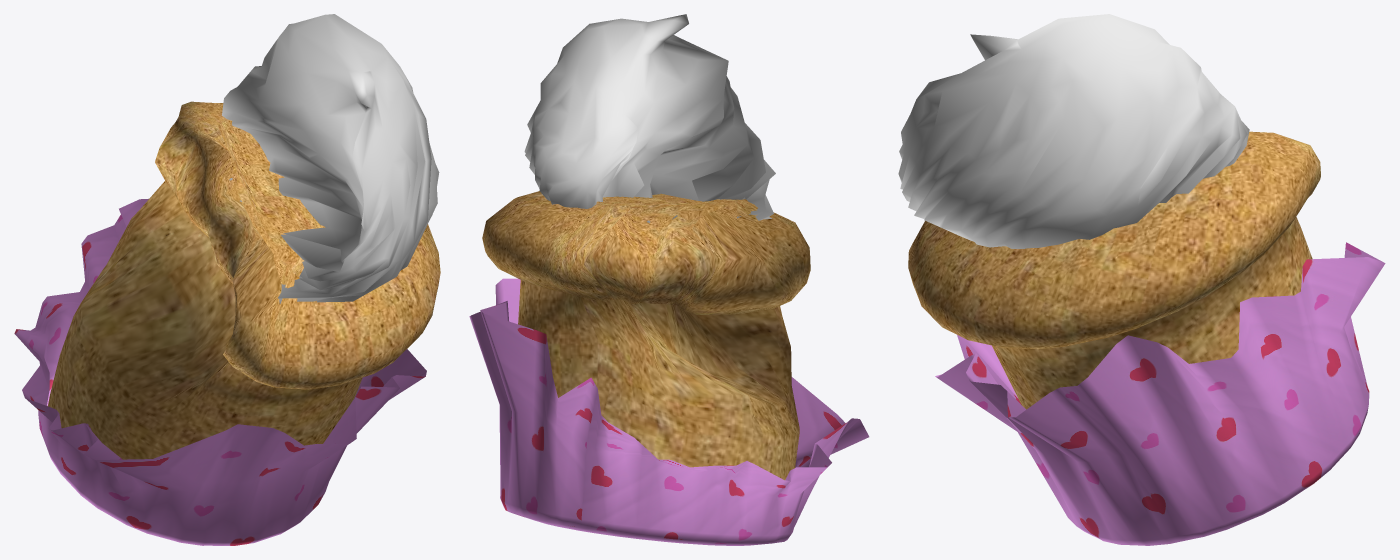
File: Cut Cupcake.fbx
3 views of the same model, side by side, from view 1: azimuth 30°, elevation 25°; view 2: azimuth 150°, elevation 25°; view 3: azimuth 270°, elevation 25° (orthographic). The views are drawn at different scales.
Visible parts, largest first — view 1: Cupcake; view 2: Cupcake; view 3: Cupcake.
Boxes of the visible parts, x1=… form: Cupcake: x1=14, y1=14, x2=440, y2=545; Cupcake: x1=469, y1=14, x2=869, y2=545; Cupcake: x1=898, y1=14, x2=1385, y2=545.
Bounding box in the file's own units: 101 × 135 × 110.
